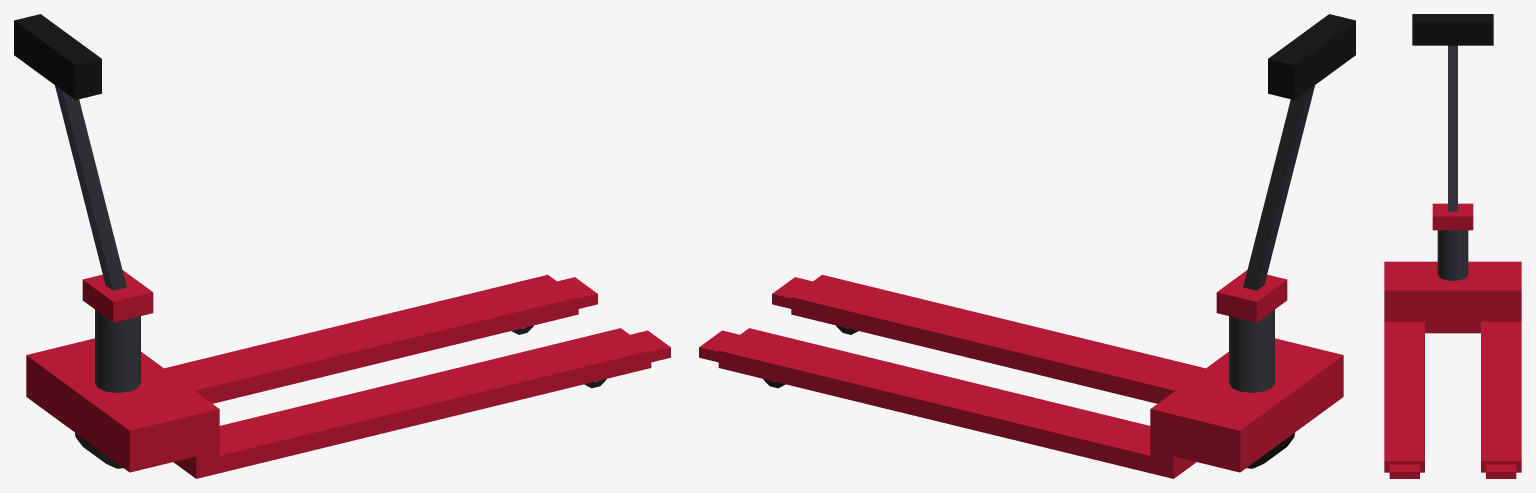
Rendered from paleteira.glb.
The picture shows the model from 3 angles, left to right: view 1: azimuth 30°, elevation 25°; view 2: azimuth 150°, elevation 25°; view 3: azimuth 270°, elevation 25°; orthographic projection. The views are drawn at different scales.
Parts seen in each view (by area): view 1: garfos, chassi, timao; view 2: garfos, chassi, timao; view 3: garfos, chassi, timao.
Part boxes in pixels (x1,y1,x2,y2): garfos: (164,274,670,478); chassi: (26,270,219,472); timao: (14,14,126,290); garfos: (699,274,1205,478); chassi: (1150,270,1343,472); timao: (1243,14,1355,290); garfos: (1384,318,1521,478); chassi: (1384,203,1521,318); timao: (1412,14,1493,211).
Bounding box in the file's own units: 1.74 × 1.25 × 0.54.
